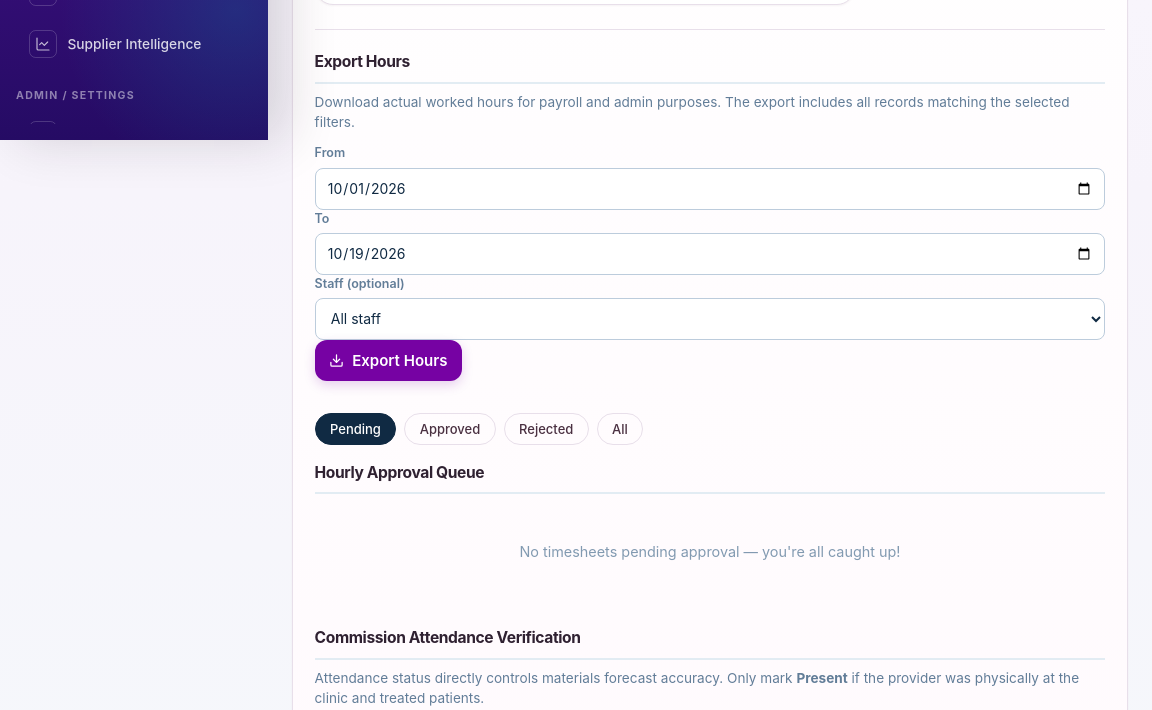
Test case: TimesheetsPage — Export Hours panel › shows the downloaded filename after a successful export
(page scrolled)
Click the button "Export Hours" at (388, 361), box [315,340,462,381]
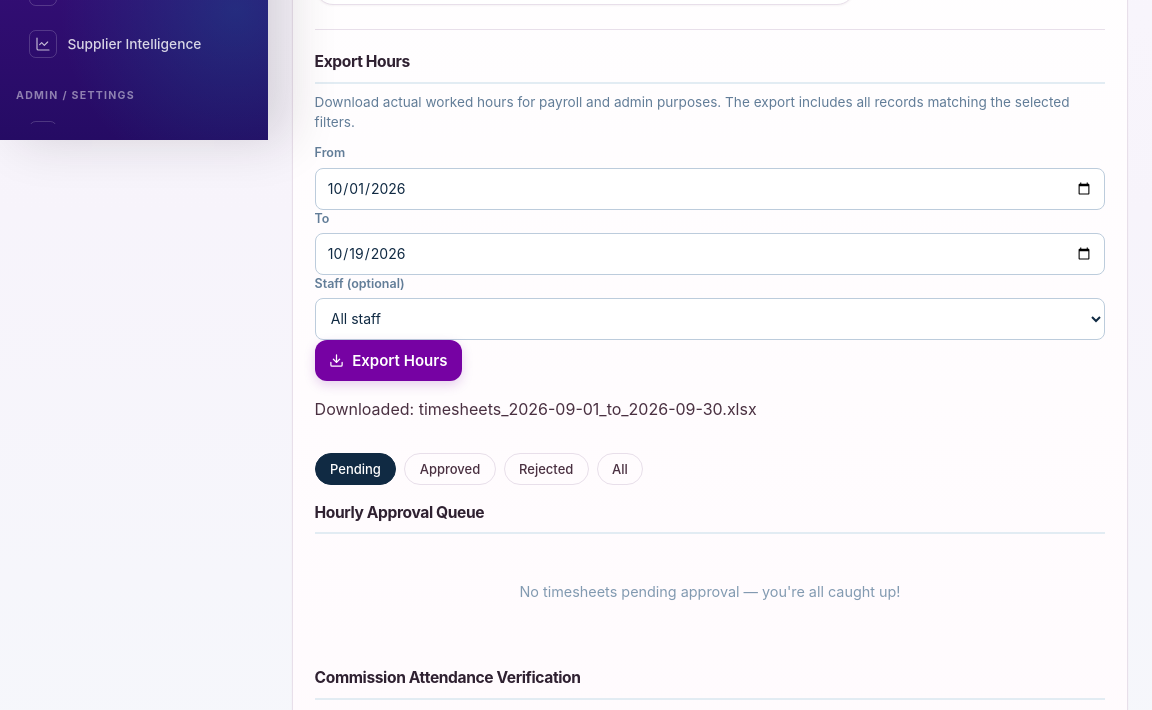
Check: the text "Downloaded: timesheets_2026-09-01_to_2026-09-30.xlsx" is shown, box [315,399,757,419]
